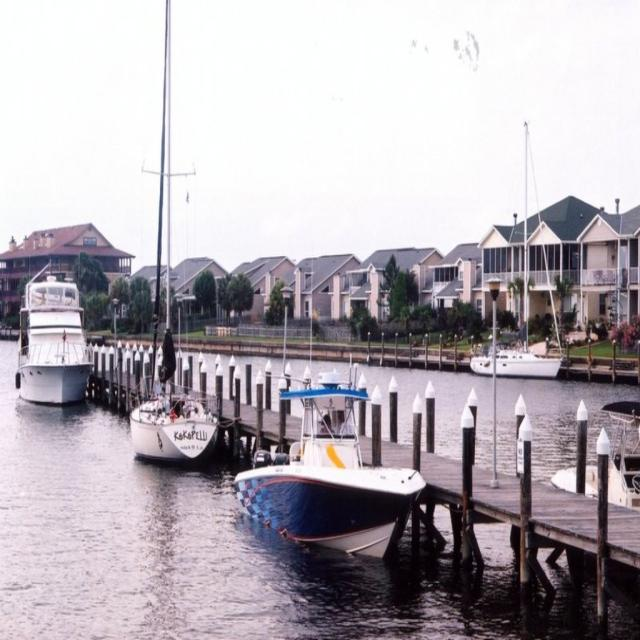Boat: (126, 0, 222, 465), (231, 381, 426, 566), (17, 260, 95, 406), (554, 390, 639, 514), (470, 350, 564, 375)
